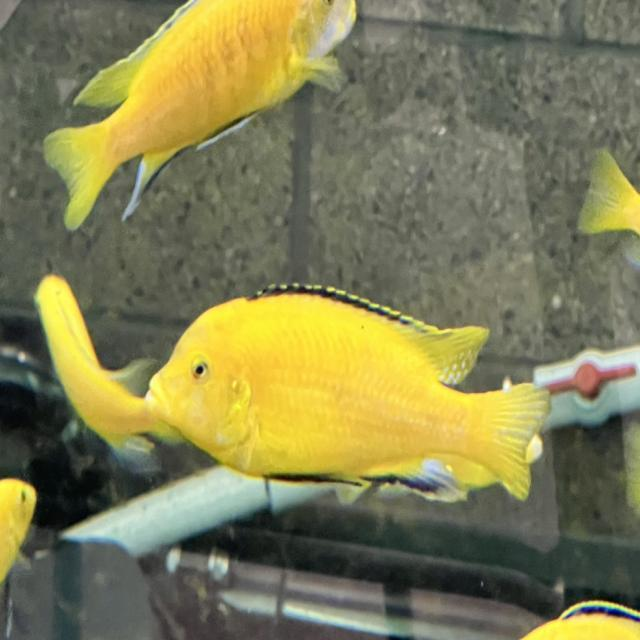YellowCichlid: (149, 268, 566, 534), (24, 0, 383, 239), (21, 261, 145, 453), (564, 130, 640, 246), (0, 468, 48, 601), (520, 588, 640, 640)
